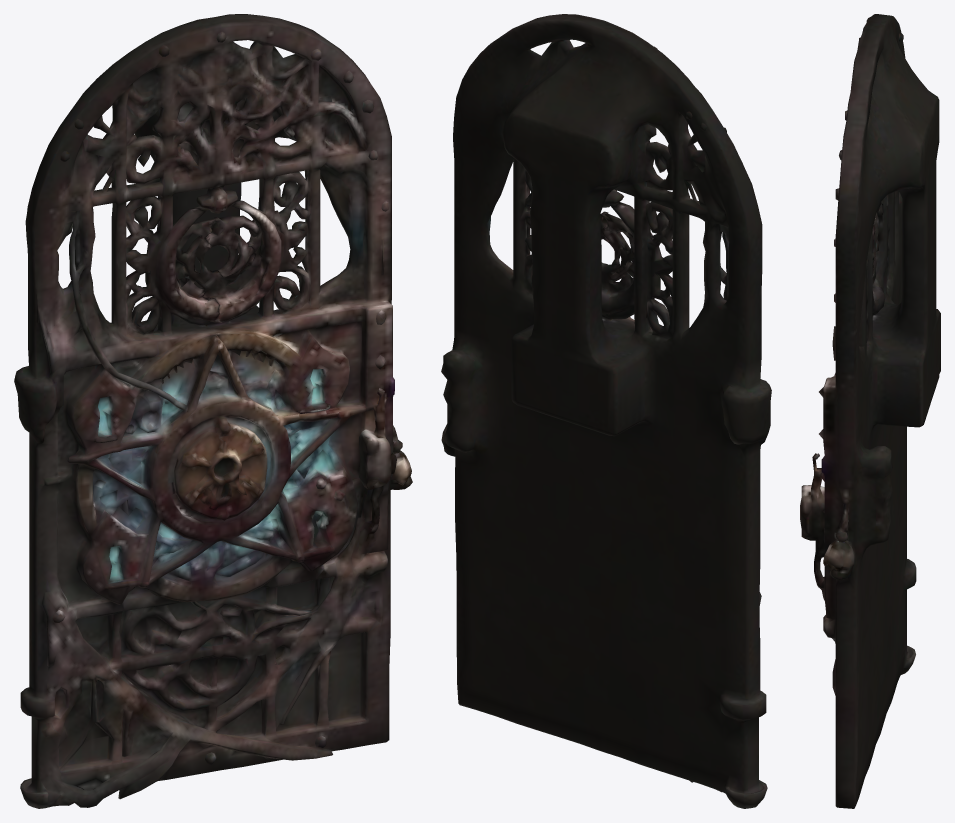
File: ornate+iron+door+3d+model.glb
3 renders of one model, left to right at view 1: azimuth 30°, elevation 25°; view 2: azimuth 150°, elevation 25°; view 3: azimuth 270°, elevation 25°, orthographic. The views are drawn at different scales.
Visible parts, largest first — view 1: tripo_node_27cb68c3-f82d-42ba-afd1-e854b2309006; view 2: tripo_node_27cb68c3-f82d-42ba-afd1-e854b2309006; view 3: tripo_node_27cb68c3-f82d-42ba-afd1-e854b2309006.
Part boxes in pixels (x1,y1,x2,y2): tripo_node_27cb68c3-f82d-42ba-afd1-e854b2309006: (14, 14, 412, 808); tripo_node_27cb68c3-f82d-42ba-afd1-e854b2309006: (441, 14, 771, 808); tripo_node_27cb68c3-f82d-42ba-afd1-e854b2309006: (800, 14, 940, 808).
Size of the model in its own units: 0.498 by 0.998 by 0.1777.
1 material, 1 textured.
